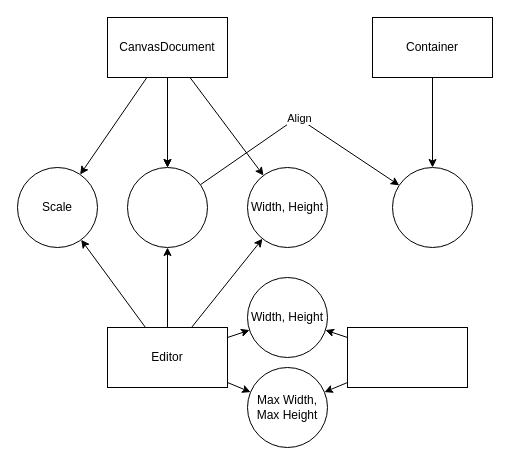
Some shapes in this 510 by 465 pixel diagram are drawn without their labels. The shapes that lost their labels are listed below. From the top down, each one's centre as x and y in pixels, then its label:
point (167, 207): Left, Top
point (432, 207): Left, Top, Right, Bottom
point (407, 357): HTML Element
